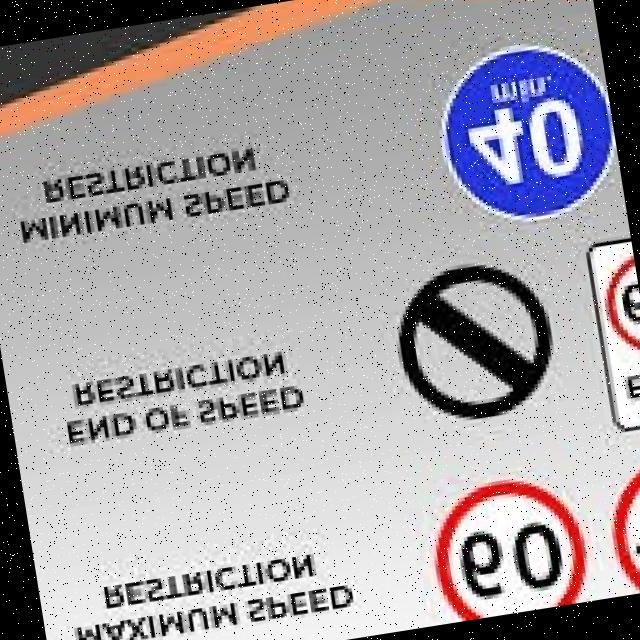speed_limit_100: (583, 455, 640, 599)
speed_limit_60: (402, 463, 604, 628), (593, 248, 640, 361)
